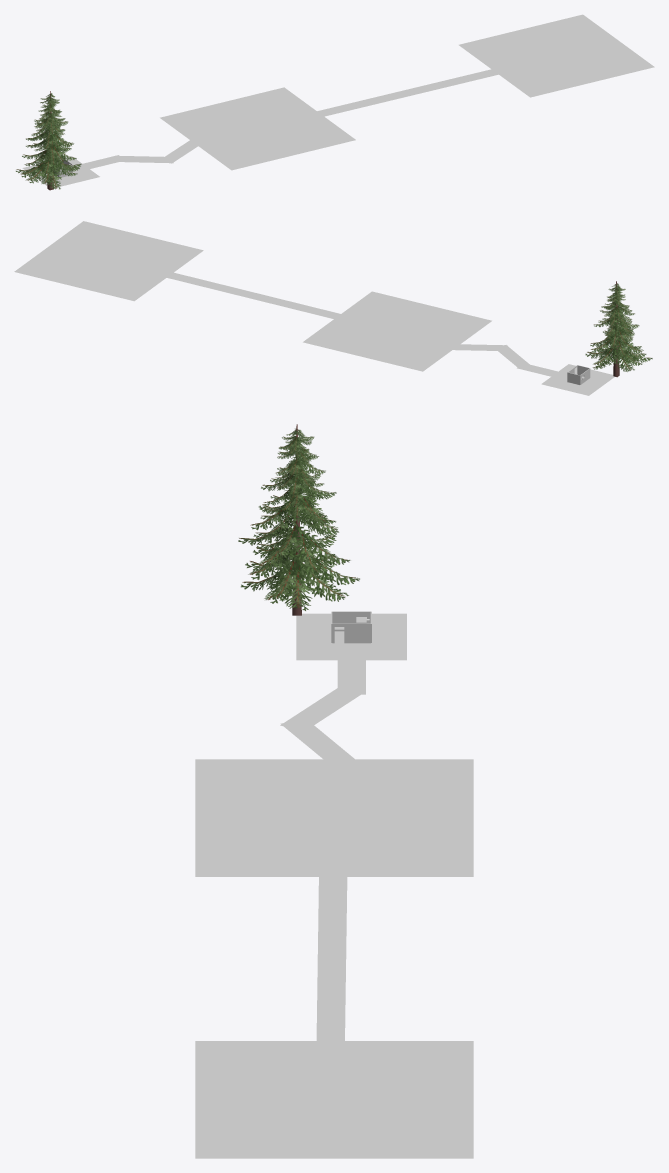
Rendered from Layout3.glb.
The picture shows the model from 3 angles, top to bottom: view 1: azimuth 30°, elevation 25°; view 2: azimuth 150°, elevation 25°; view 3: azimuth 270°, elevation 25°; orthographic projection. The views are drawn at different scales.
Visible parts, largest first — view 1: Plane.005, Plane.006, Cube.001, Plane.007, Plane.001, Plane.003, Plane.004, Plane.002; view 2: Plane.005, Plane.006, Cube.001, Plane.007, Plane.001, Plane.004, Plane.003; view 3: Plane.006, Plane.005, Cube.001, Plane.007, Plane.001, Plane.002, Plane.003, Plane.004.
Part boxes in pixels (bbox=[...]): Plane.005: bbox=[160, 87, 355, 170]; Plane.006: bbox=[459, 14, 654, 97]; Cube.001: bbox=[16, 91, 81, 190]; Plane.007: bbox=[317, 65, 512, 116]; Plane.001: bbox=[22, 156, 99, 187]; Plane.003: bbox=[115, 155, 173, 163]; Plane.004: bbox=[160, 139, 201, 163]; Plane.002: bbox=[73, 155, 118, 172]; Plane.005: bbox=[303, 291, 491, 371]; Plane.006: bbox=[14, 221, 203, 301]; Cube.001: bbox=[585, 281, 652, 377]; Plane.007: bbox=[152, 269, 340, 318]; Plane.001: bbox=[541, 364, 614, 395]; Plane.004: bbox=[451, 344, 507, 350]; Plane.003: bbox=[498, 345, 531, 367]; Plane.006: bbox=[195, 1041, 473, 1158]; Plane.005: bbox=[195, 759, 473, 876]; Cube.001: bbox=[238, 424, 359, 615]; Plane.007: bbox=[316, 877, 347, 1054]; Plane.001: bbox=[296, 613, 406, 660]; Plane.002: bbox=[337, 647, 365, 694]; Plane.003: bbox=[280, 688, 360, 731]; Plane.004: bbox=[280, 719, 355, 765].
Bounding box in the file's own units: 142 × 21.64 × 28.84.
Materials: 3 (1 with a texture image).
